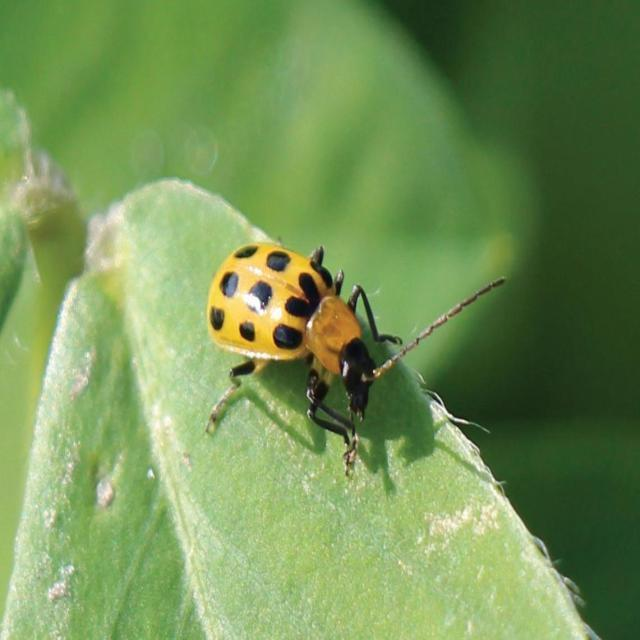gusano_verde: (202, 238, 505, 474)
